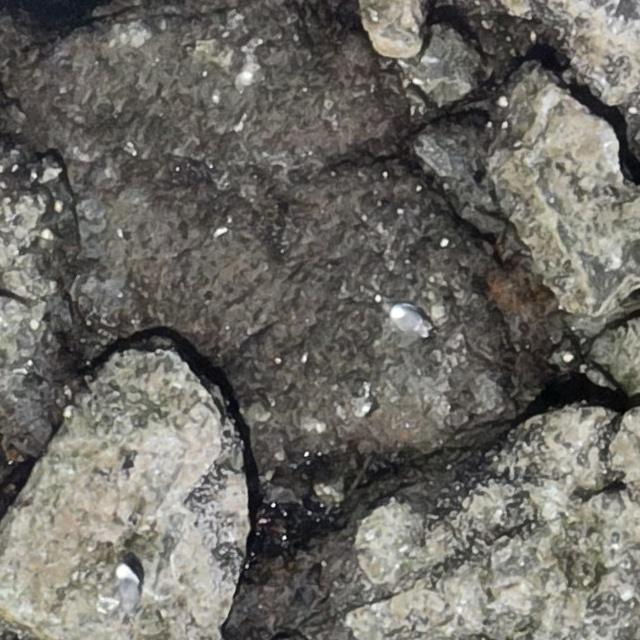umineko: (116, 565, 142, 612), (392, 306, 426, 333)
